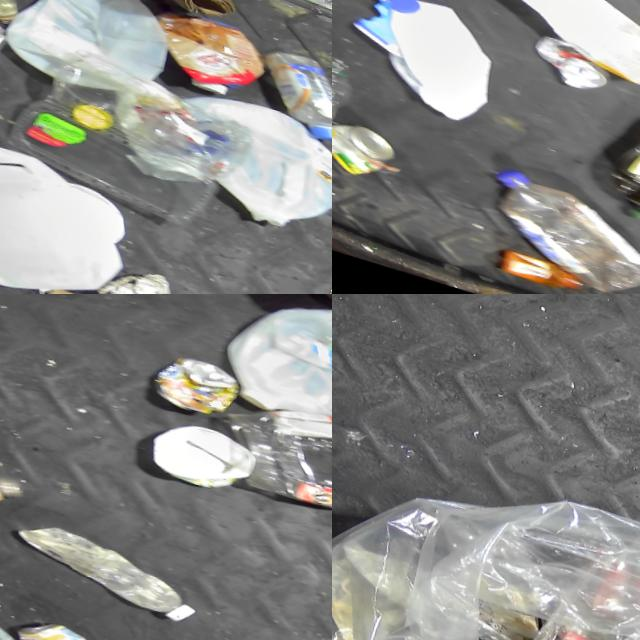can: (150, 344, 243, 419), (525, 27, 614, 96), (332, 112, 399, 187), (5, 607, 113, 640), (26, 275, 152, 294)
milk_jug: (161, 71, 332, 236), (0, 109, 141, 294), (336, 0, 507, 128), (0, 0, 183, 105), (213, 294, 332, 442)
non_white_jug: (594, 90, 640, 244)
plastic_bottle: (473, 160, 640, 294), (4, 512, 204, 622), (242, 32, 332, 138), (332, 42, 361, 168)
